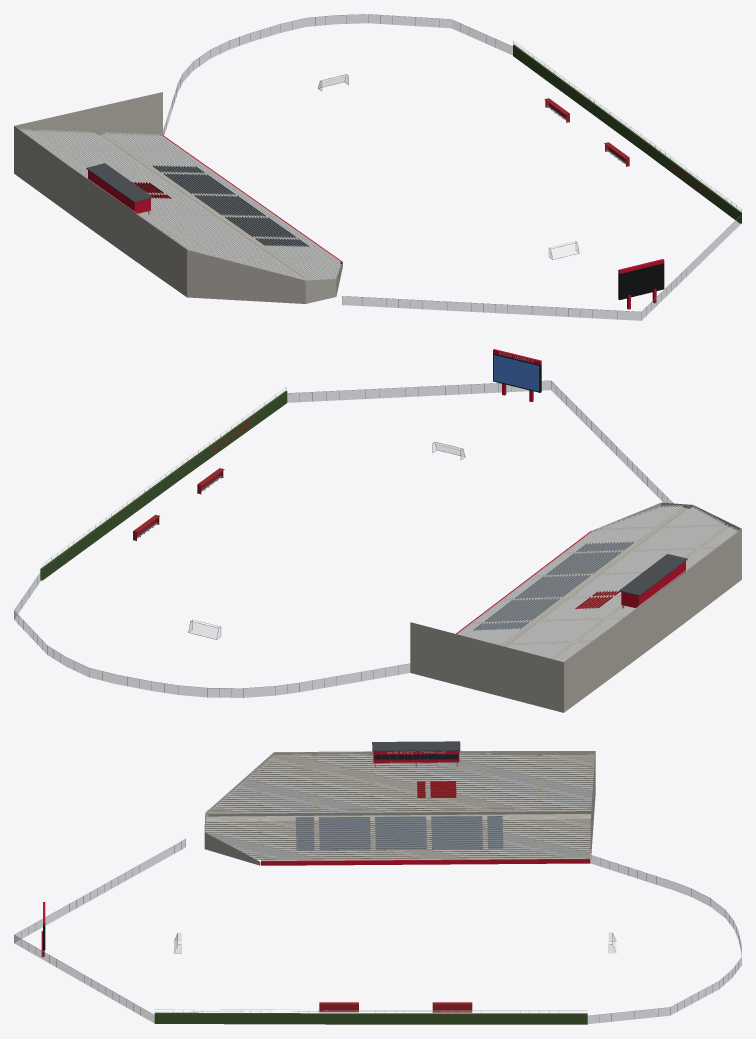
File: field-props-nickerson.glb
3 views of the same model, one above another, from view 1: azimuth 30°, elevation 25°; view 2: azimuth 150°, elevation 25°; view 3: azimuth 270°, elevation 25° (orthographic). The views are drawn at different scales.
Visible parts, largest first — view 1: field-props-nickerson; view 2: field-props-nickerson; view 3: field-props-nickerson.
Part boxes in pixels (left/top/right/bottom): field-props-nickerson: left=14, top=14, right=741, bottom=320; field-props-nickerson: left=14, top=349, right=741, bottom=712; field-props-nickerson: left=14, top=741, right=741, bottom=1024.
Bounding box in the file's own units: 139 × 15.52 × 187.
